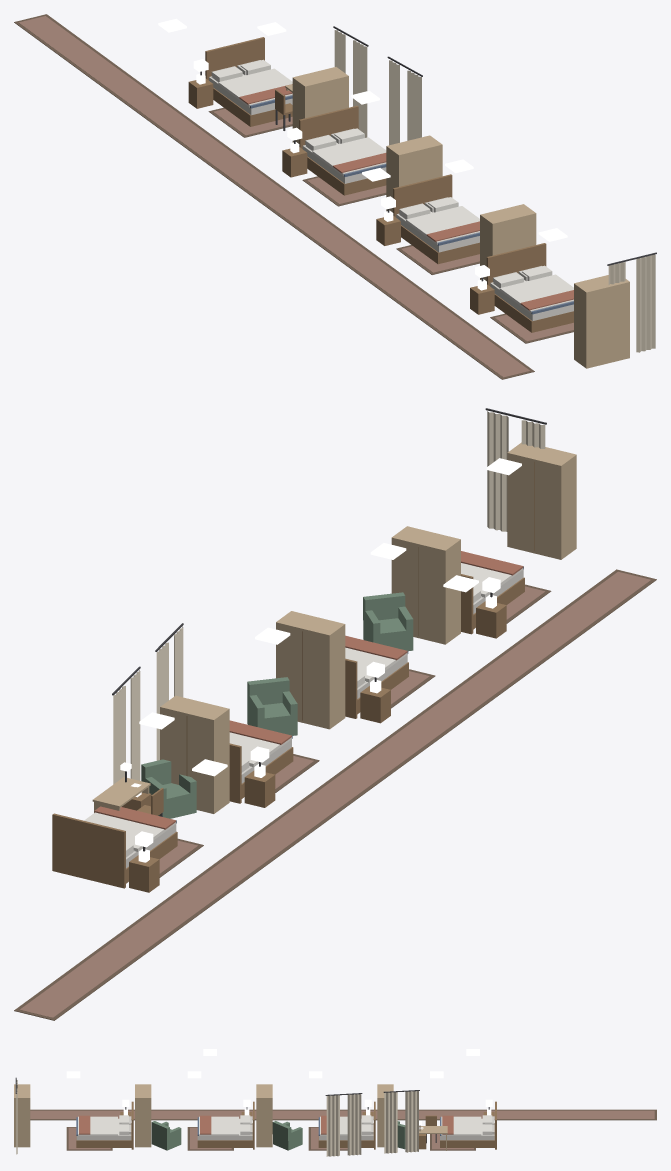
Rendered from fine-s2.glb.
3 renders of one model, top to bottom at view 1: azimuth 30°, elevation 25°; view 2: azimuth 150°, elevation 25°; view 3: azimuth 270°, elevation 25°, orthographic. The views are drawn at different scales.
Parts seen in each view (by area): view 1: soft-s2, dresser.007, bed-frame.007, bed-frame.006, bed-frame.005, bed-frame.004, dresser.004, dresser.006, dresser.005, nightstand.005, nightstand.004, nightstand.007 (+1 smaller); view 2: soft-s2, dresser.007, dresser.005, dresser.006, dresser.004, bed-frame.004, lounge-chair.004, lounge-chair.005, lounge-chair.003, bed-frame.005, bed-frame.006, bed-frame.007 (+5 smaller); view 3: soft-s2, dresser.005, dresser.006, dresser.007, bed-frame.007, bed-frame.006, bed-frame.004, lounge-chair.005, lounge-chair.004, dresser.004, bed-frame.005, writing-desk.001 (+1 smaller).
Boxes of the visible parts, x1,y1,x2,y2 form: soft-s2: (14,14,656,379); dresser.007: (574,275,629,368); bed-frame.007: (486,243,573,332); bed-frame.006: (393,174,479,264); bed-frame.005: (299,105,386,195); bed-frame.004: (205,37,292,126); dresser.004: (292,67,348,143); dresser.006: (480,204,536,280); dresser.005: (386,135,442,212); nightstand.005: (282,142,307,177); nightstand.004: (188,73,213,108); nightstand.007: (470,279,494,314); soft-s2: (14,408,656,1020); dresser.007: (507,442,576,559); dresser.005: (276,611,345,729); dresser.006: (391,526,460,644); dresser.004: (160,695,229,813); bed-frame.004: (52,813,177,888); lounge-chair.004: (247,677,297,735); lounge-chair.005: (363,592,413,651); lounge-chair.003: (141,759,196,818); bed-frame.005: (229,735,293,803); bed-frame.006: (345,651,408,718); bed-frame.007: (461,566,524,634); soft-s2: (15,1077,656,1156); dresser.005: (256,1084,272,1147); dresser.006: (135,1084,151,1147); dresser.007: (14,1084,30,1147); bed-frame.007: (76,1101,133,1149); bed-frame.006: (197,1101,254,1149); bed-frame.004: (440,1101,496,1149); lounge-chair.005: (151,1121,181,1150); lounge-chair.004: (272,1121,302,1150); dresser.004: (377,1084,393,1147); bed-frame.005: (318,1101,375,1149); writing-desk.001: (419,1121,447,1150).
Bounding box in the file's own units: 4.2 × 2.57 × 23.69.
